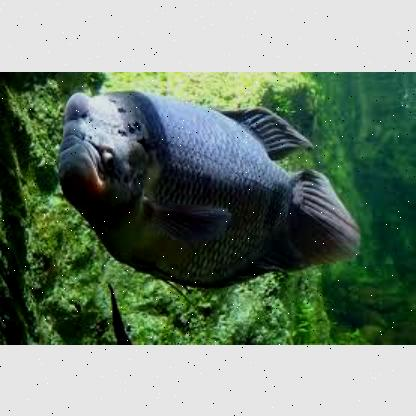gurame: (57, 84, 357, 286)
